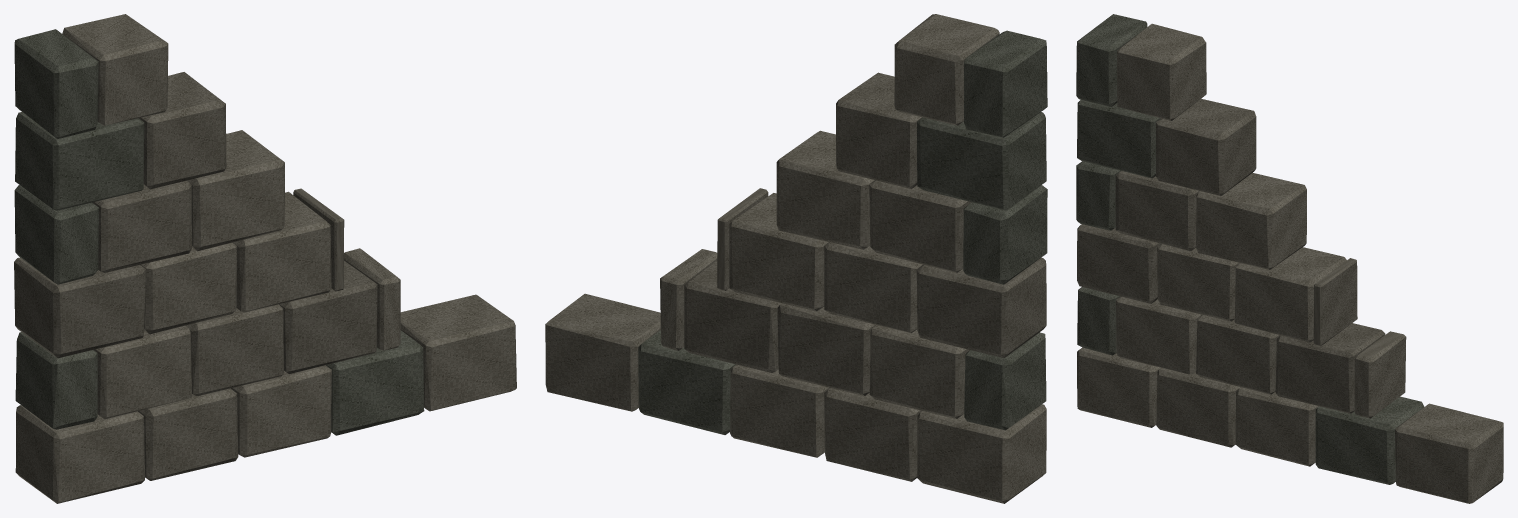
The model's file is env_ruin_walls_11_collapsed_end.glb.
3 renders of one model, left to right at view 1: azimuth 30°, elevation 25°; view 2: azimuth 150°, elevation 25°; view 3: azimuth 330°, elevation 25°, orthographic. The views are drawn at different scales.
Bounding box in the file's own units: 1.99 × 1.79 × 0.3259.
Materials: 1 (1 with a texture image).
